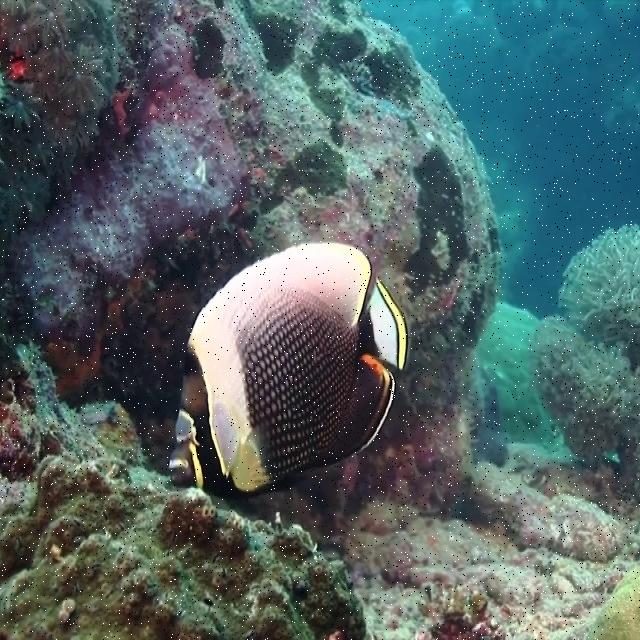aquatic plants: (0, 1, 120, 237), (535, 226, 639, 454)
fish: (170, 240, 407, 506)
sea-floor: (0, 395, 368, 639)
